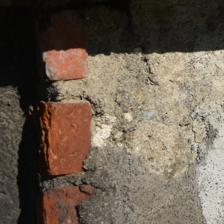Crack: (68, 16, 98, 69)
